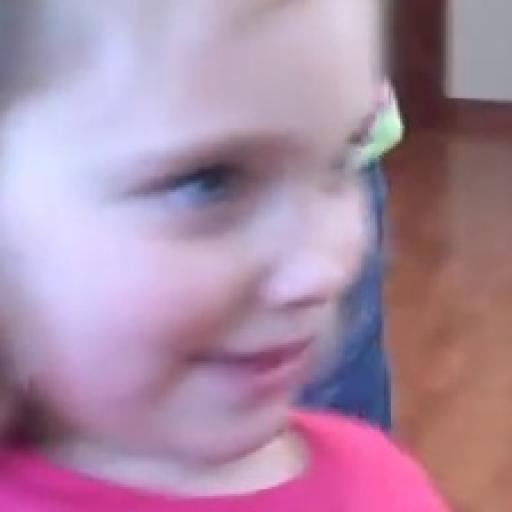Autism: (0, 0, 401, 465)
